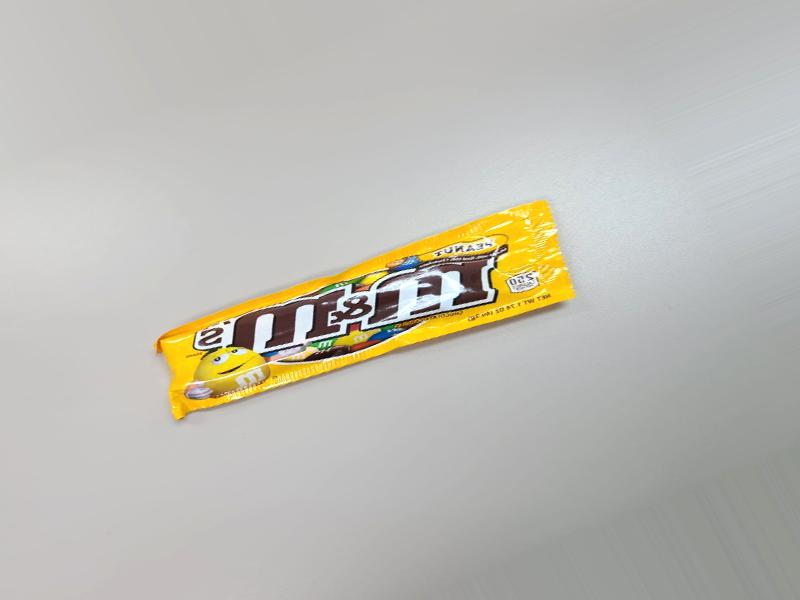m&m: (178, 204, 552, 424)
